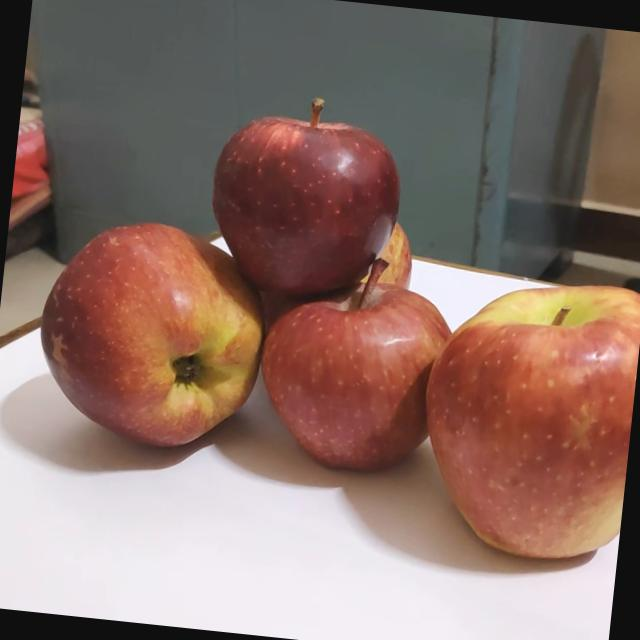apple: (407, 262, 640, 572), (20, 200, 286, 468), (245, 243, 461, 487), (196, 82, 411, 311), (338, 205, 420, 300)
